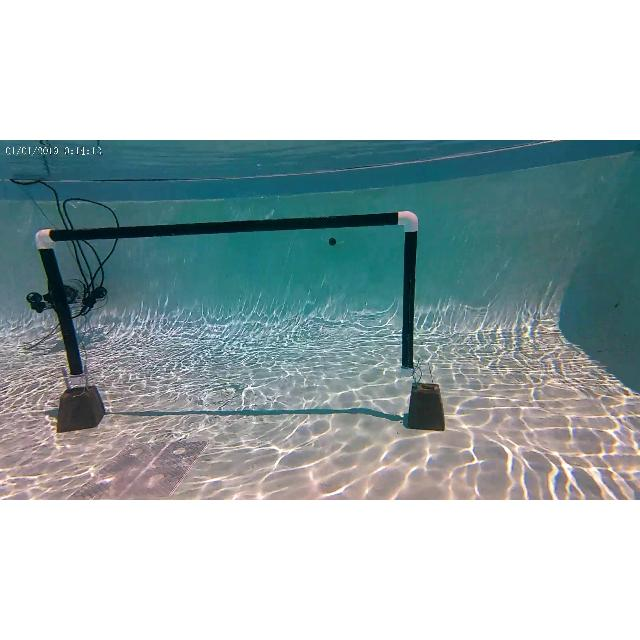prequal gate: (35, 211, 419, 385)
prequal gate leg l: (33, 228, 85, 374)
prequal gate leg r: (396, 210, 416, 376)
